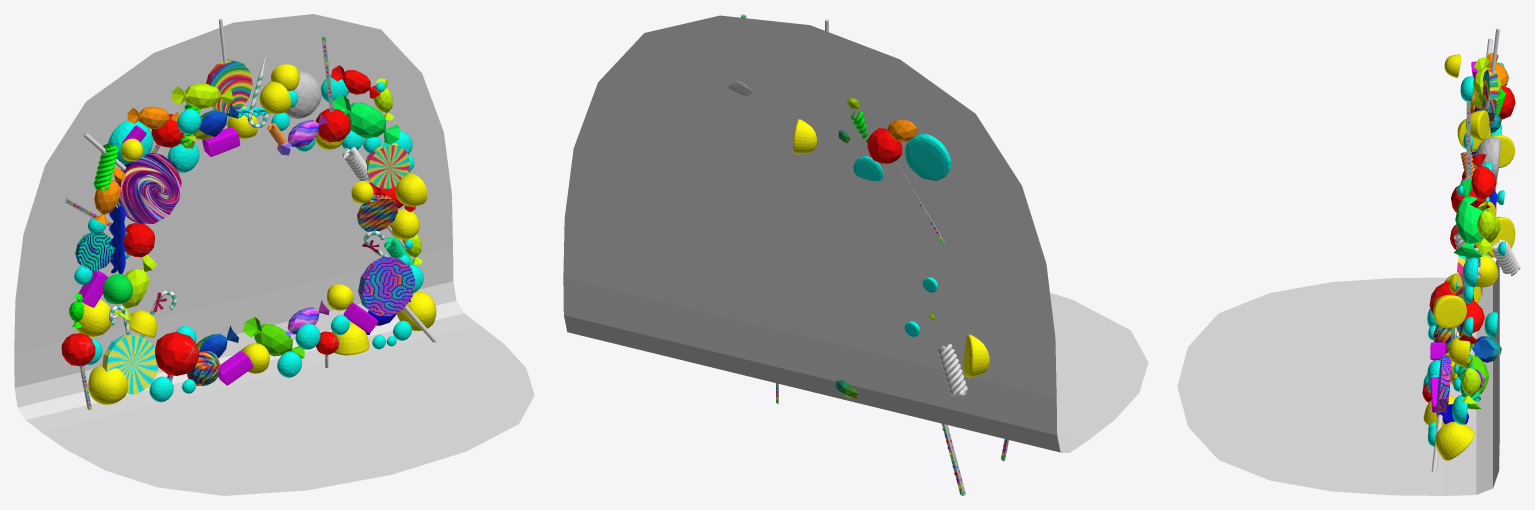
3 views of the same model, side by side, from view 1: azimuth 30°, elevation 25°; view 2: azimuth 150°, elevation 25°; view 3: azimuth 270°, elevation 25° (orthographic). The views are drawn at different scales.
Parts seen in each view (by area): view 1: Plane.001, Cylinder, Cylinder.002, Cylinder.001, Cylinder.009, Box001.002, Cylinder.006, Icosphere.004, Red Jelly.006, Box001.001, Icosphere.005, Cylinder.008 (+34 smaller); view 2: Plane.001, Green Jelly.018, Box001.005, Circle.004, Red Jelly.011, Red Jelly.015; view 3: Plane.001, Icosphere.004, Red Jelly, Red Jelly.004, Icosphere.014, Cylinder.002, Cylinder.009, Box001.001, Green Jelly.012, Icosphere.013, Icosphere.011, Icosphere.015 (+11 smaller).
Part boxes in pixels (bbox=[...]): Plane.001: bbox=[14, 14, 534, 495]; Cylinder: bbox=[117, 153, 181, 223]; Cylinder.002: bbox=[358, 256, 415, 316]; Cylinder.001: bbox=[102, 334, 158, 394]; Cylinder.009: bbox=[206, 59, 252, 113]; Box001.002: bbox=[155, 332, 198, 381]; Cylinder.006: bbox=[365, 142, 410, 188]; Icosphere.004: bbox=[332, 95, 399, 144]; Red Jelly.006: bbox=[88, 365, 128, 404]; Box001.001: bbox=[316, 35, 350, 142]; Icosphere.005: bbox=[243, 316, 304, 358]; Cylinder.008: bbox=[75, 232, 114, 270]; Plane.001: bbox=[563, 15, 1148, 452]; Green Jelly.018: bbox=[904, 133, 951, 180]; Box001.005: bbox=[867, 128, 944, 243]; Circle.004: bbox=[937, 344, 967, 397]; Red Jelly.011: bbox=[963, 334, 989, 377]; Red Jelly.015: bbox=[793, 119, 816, 154]; Plane.001: bbox=[1177, 259, 1499, 495]; Icosphere.004: bbox=[1453, 178, 1488, 258]; Red Jelly: bbox=[1435, 421, 1474, 460]; Red Jelly.004: bbox=[1433, 294, 1466, 328]; Icosphere.014: bbox=[1470, 154, 1496, 208]; Cylinder.002: bbox=[1436, 355, 1451, 416]; Cylinder.009: bbox=[1479, 69, 1498, 124]; Box001.001: bbox=[1451, 101, 1486, 212]; Green Jelly.012: bbox=[1475, 136, 1500, 180]; Icosphere.013: bbox=[1472, 336, 1501, 362]; Icosphere.011: bbox=[1472, 57, 1501, 108]; Icosphere.015: bbox=[1477, 201, 1496, 246].
Size of the model in its own units: 1233 by 1116 by 818.
